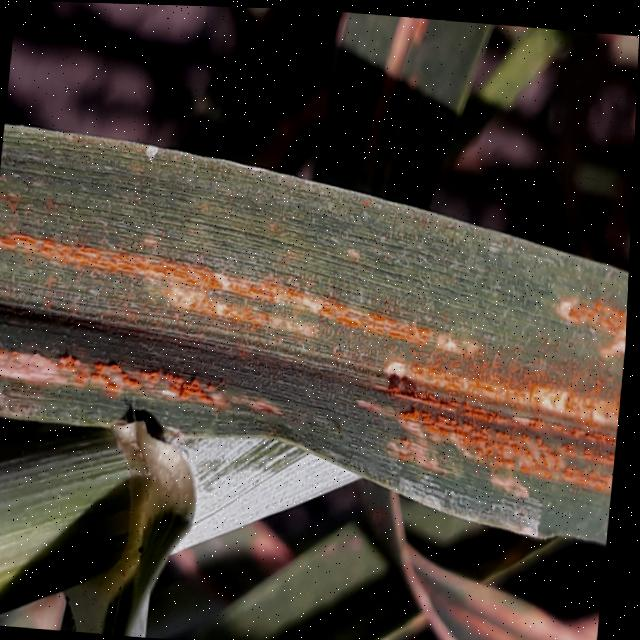yellow_rust: (0, 101, 636, 609), (307, 7, 506, 206), (354, 512, 612, 640)
